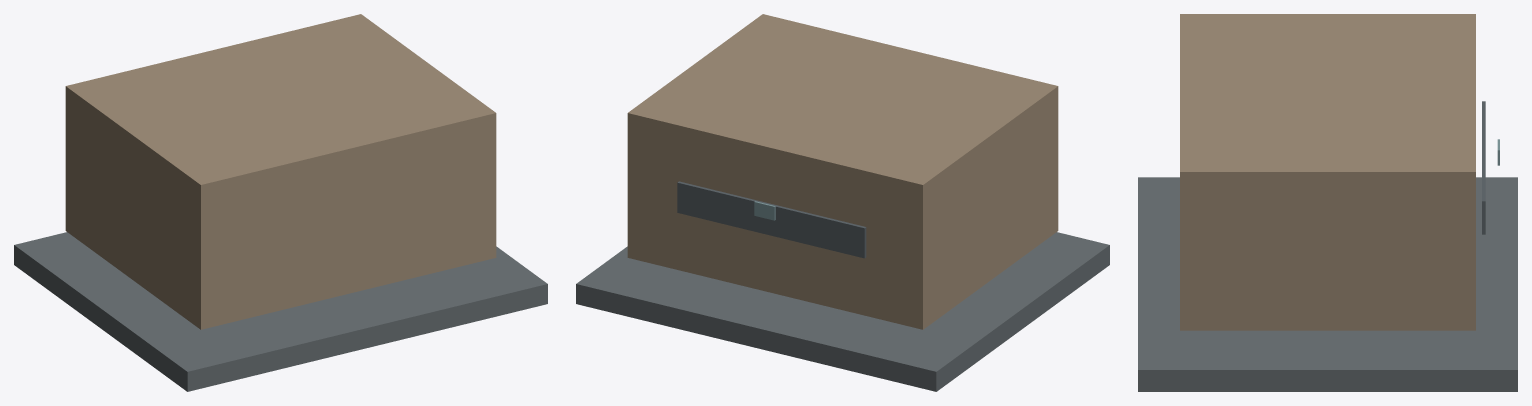
Rendered from iz3_health_emergency_02.glb.
The picture shows the model from 3 angles, left to right: view 1: azimuth 30°, elevation 25°; view 2: azimuth 150°, elevation 25°; view 3: azimuth 270°, elevation 25°; orthographic projection. The views are drawn at different scales.
Parts seen in each view (by area): view 1: cabinet, base; view 2: cabinet, base, panel; view 3: cabinet, base, panel.
Boxes of the visible parts, bbox=[...] form: cabinet: bbox=[65, 14, 496, 329]; base: bbox=[14, 232, 547, 391]; cabinet: bbox=[627, 14, 1058, 329]; base: bbox=[576, 232, 1109, 391]; panel: bbox=[677, 181, 866, 258]; cabinet: bbox=[1180, 14, 1475, 330]; base: bbox=[1138, 177, 1517, 391]; panel: bbox=[1482, 101, 1485, 234].
Bounding box in the file's own units: 6 × 2.94 × 5.
